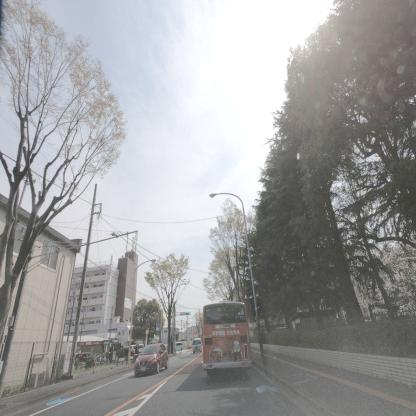Someiyoshino: (342, 227, 416, 324)
